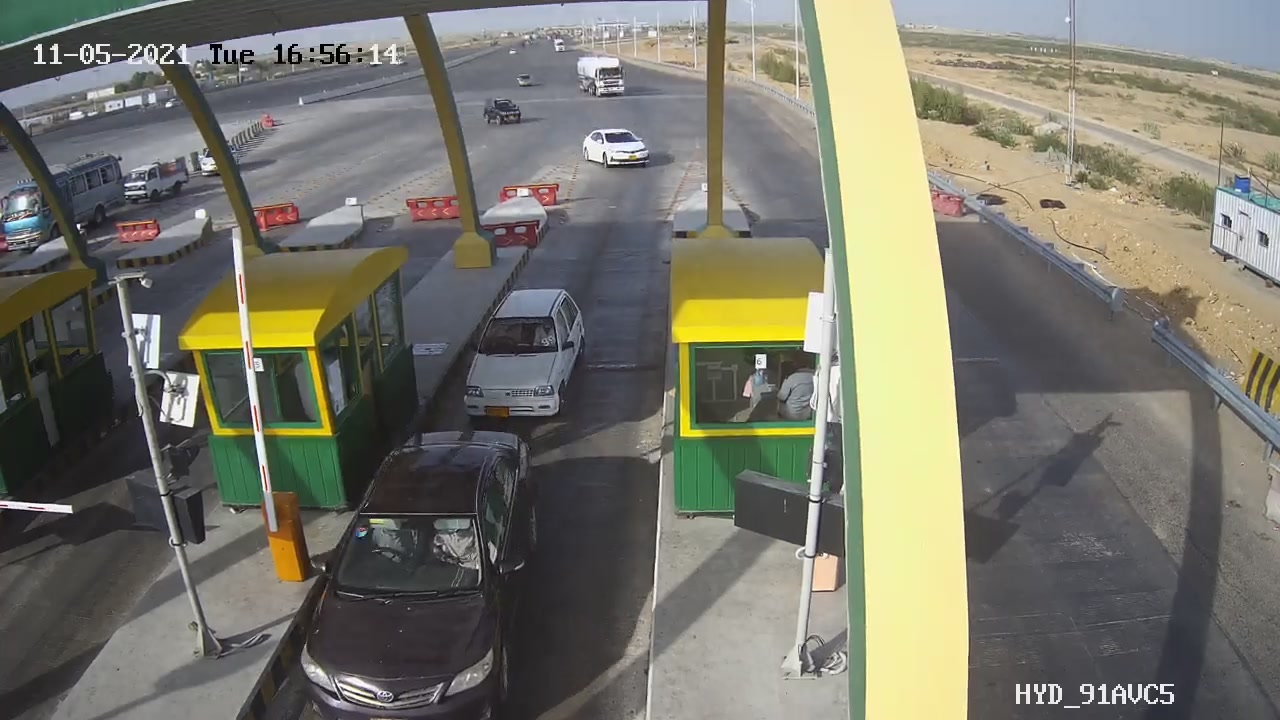F1: (448, 271, 600, 447)
